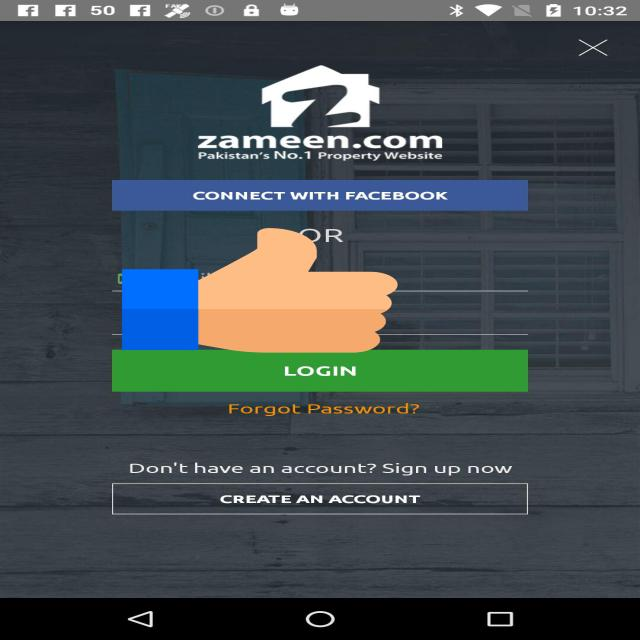privacy zuckering: (122, 225, 398, 356)
